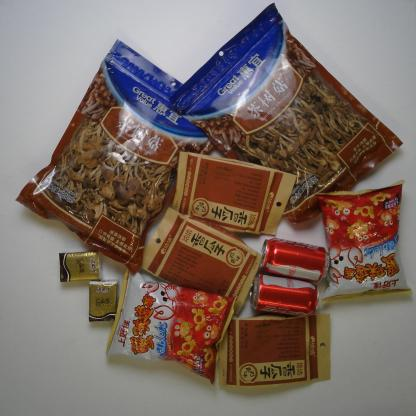Dried Food: (168, 2, 404, 224), (15, 38, 218, 276), (140, 205, 264, 315), (172, 151, 298, 236), (218, 313, 331, 389)
Drink: (258, 237, 330, 283), (249, 274, 319, 316)
Puffed Food: (105, 268, 238, 385), (314, 179, 413, 305)
Tissue: (59, 250, 103, 282), (88, 279, 119, 322)
